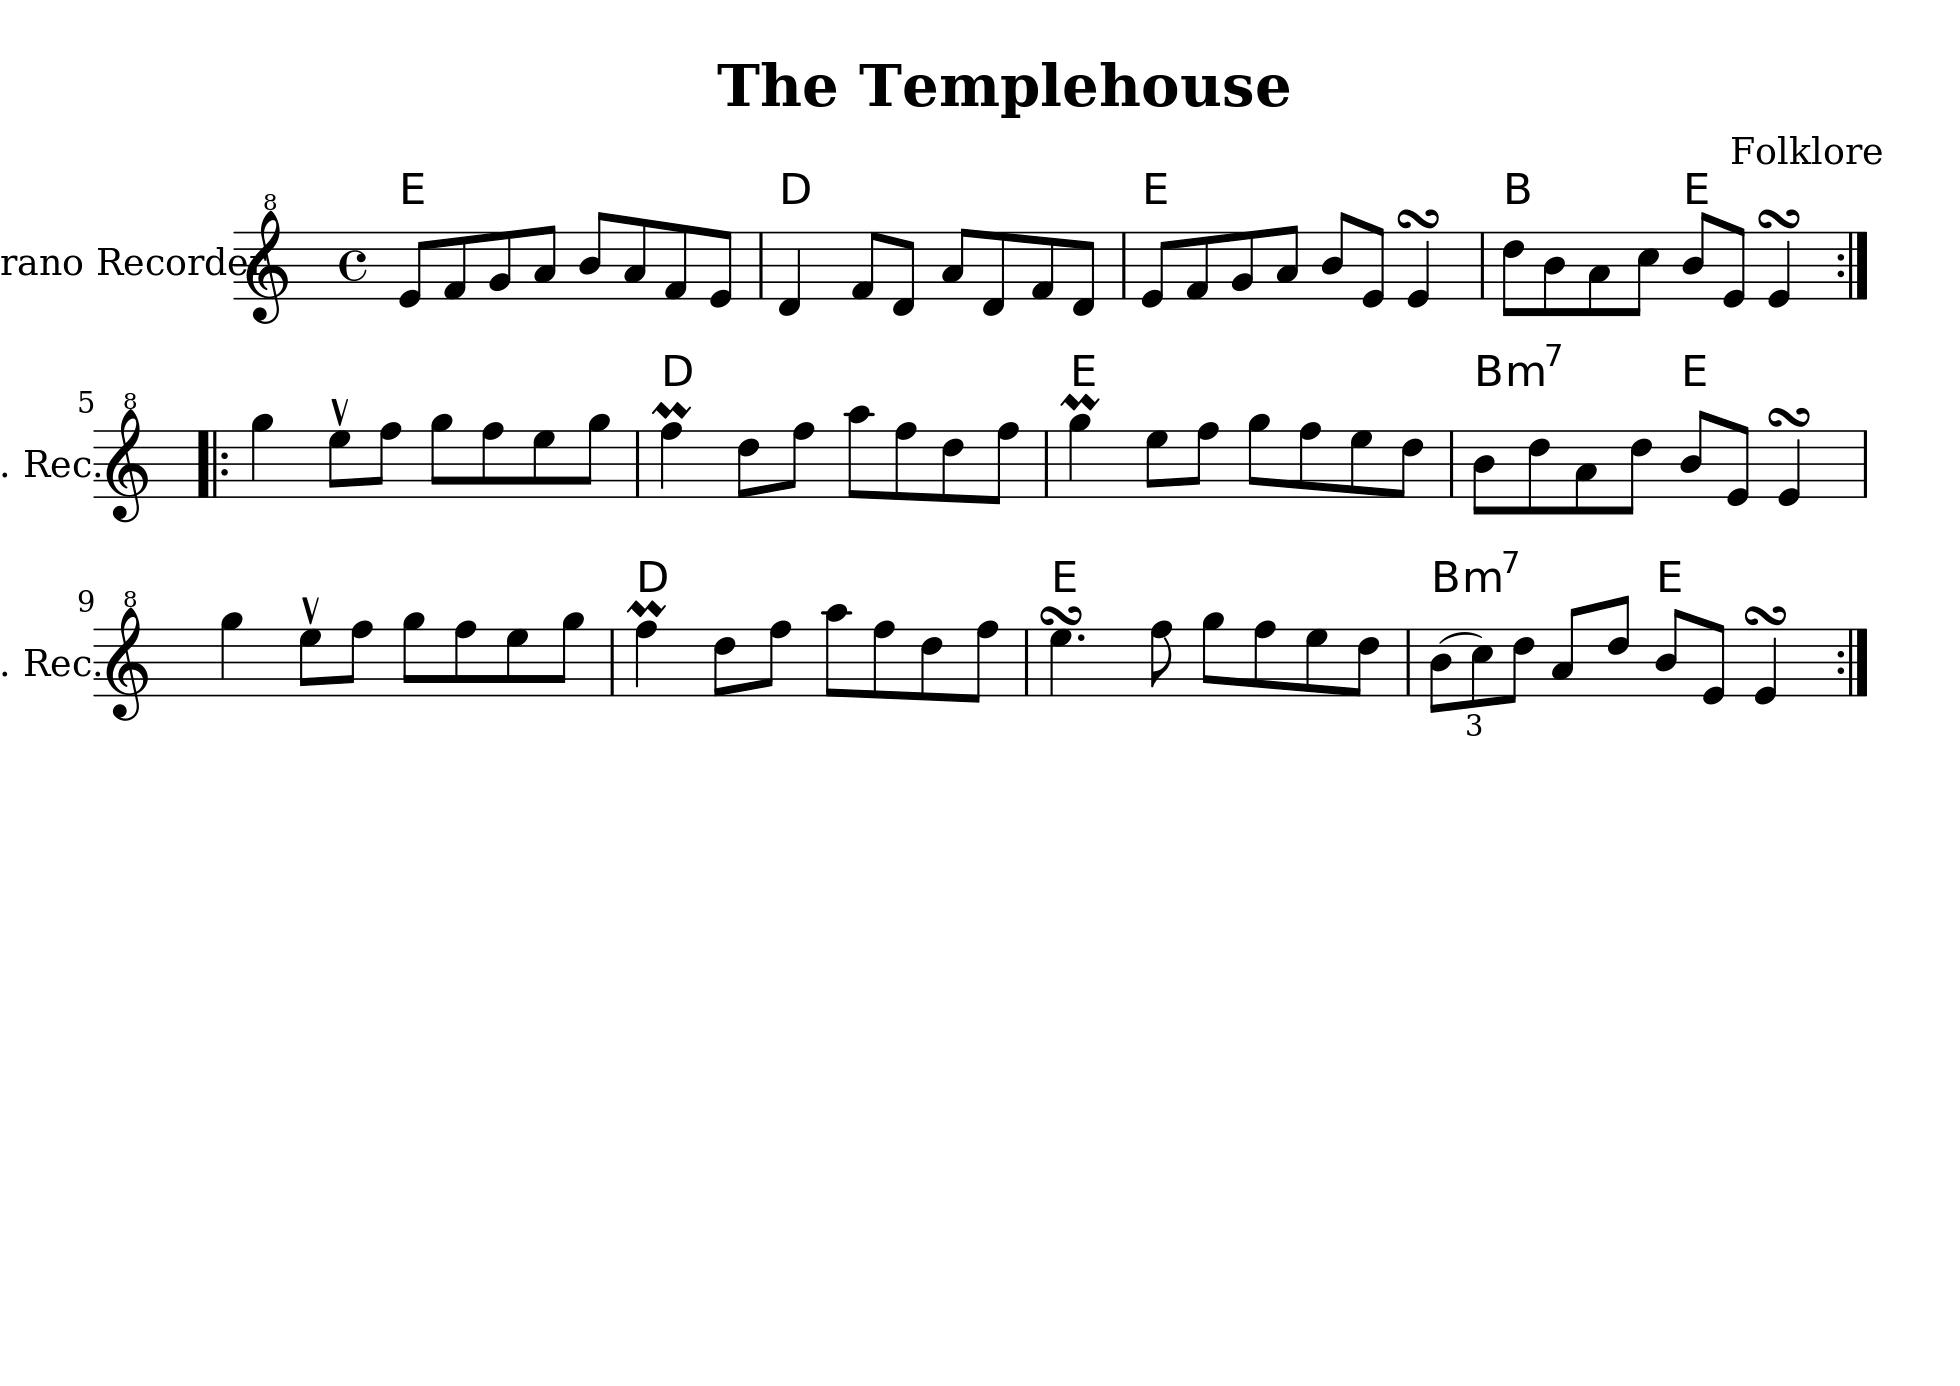3: (1464, 711, 1485, 739)
4_-1: (775, 229, 802, 318)
4_0: (1776, 427, 1803, 508), (1753, 625, 1780, 706), (1767, 229, 1792, 309), (1405, 229, 1431, 307)
4_7: (1047, 628, 1074, 697)
4_8: (631, 618, 658, 699), (657, 420, 682, 499)
4_9: (247, 412, 274, 499), (1066, 412, 1093, 499), (219, 609, 244, 697)
5: (76, 387, 94, 415)
7: (1542, 340, 1563, 367), (1500, 546, 1519, 573)
8_-1: (981, 229, 1008, 319), (1071, 229, 1098, 319), (889, 229, 916, 318)
8_0: (1140, 229, 1173, 310), (397, 229, 427, 310), (706, 226, 735, 310), (1360, 223, 1387, 310), (1725, 421, 1752, 508), (1701, 619, 1728, 706), (1722, 223, 1747, 310)
8_1: (661, 220, 690, 301), (849, 229, 880, 301), (441, 229, 469, 301), (1029, 229, 1056, 301), (1185, 229, 1212, 301)
8_10: (846, 403, 873, 499), (823, 603, 850, 699)
8_2: (1230, 228, 1257, 301), (487, 228, 513, 301)
8_3: (1551, 604, 1582, 699), (1572, 427, 1599, 517), (940, 226, 972, 301), (622, 216, 649, 301), (1585, 229, 1611, 318), (1275, 223, 1300, 301), (532, 223, 556, 301)
8_4: (577, 210, 610, 301), (1320, 210, 1353, 301), (1681, 210, 1713, 301), (1654, 606, 1686, 697), (1680, 408, 1710, 499), (1540, 229, 1567, 318), (1471, 427, 1497, 517), (1428, 627, 1452, 715)
8_5: (1629, 229, 1660, 316), (1470, 625, 1494, 709)
8_6: (1620, 427, 1653, 517), (1606, 592, 1632, 697), (1500, 229, 1527, 319), (1506, 625, 1536, 705), (1392, 427, 1425, 499), (1348, 627, 1381, 699), (1525, 427, 1551, 517), (939, 427, 964, 505), (918, 627, 943, 703), (735, 427, 760, 499), (711, 627, 736, 699)
8_7: (529, 427, 556, 499), (327, 427, 352, 499), (1144, 427, 1170, 499), (504, 625, 529, 697), (1348, 429, 1374, 499), (297, 627, 322, 697), (1303, 627, 1329, 697)
8_8: (985, 420, 1020, 505), (964, 618, 999, 703), (1188, 420, 1221, 499), (370, 420, 402, 499), (783, 421, 814, 499), (342, 619, 373, 697), (760, 619, 792, 697), (451, 618, 478, 699), (478, 420, 505, 499), (892, 420, 918, 502), (1297, 420, 1323, 499), (1252, 618, 1278, 697), (1149, 619, 1174, 697), (871, 619, 895, 700)
8_9: (550, 610, 585, 699), (577, 412, 610, 499), (427, 412, 454, 499), (1200, 610, 1227, 697), (1246, 412, 1272, 499), (400, 610, 426, 697)
9: (76, 586, 94, 613)
High_Gclef: (102, 390, 150, 523), (103, 588, 150, 721), (246, 190, 286, 322)
LeftRepeatSign: (193, 427, 232, 498)
Rec: (19, 445, 94, 480), (19, 646, 94, 678), (94, 244, 165, 277)
RightRepeatSign: (1836, 229, 1872, 300), (1836, 627, 1872, 696)
ShortTrill: (1059, 390, 1104, 411), (649, 397, 694, 418)
Single_barline: (1857, 427, 1875, 499), (1018, 628, 1036, 696), (628, 430, 646, 496), (1038, 430, 1056, 496), (753, 231, 769, 298), (604, 628, 621, 694), (1401, 628, 1416, 697), (1116, 231, 1131, 298), (1476, 232, 1491, 298), (1444, 430, 1459, 496)
Slur: (1440, 628, 1482, 643)
TimeSig: (337, 232, 369, 298)
Tremolo_bar: (328, 394, 351, 427), (298, 594, 321, 625)
Turn: (1755, 202, 1801, 231), (1767, 402, 1812, 430), (1743, 600, 1788, 627), (1038, 601, 1086, 625), (1395, 205, 1440, 229), (625, 595, 669, 618)
dot: (1074, 630, 1087, 643)
